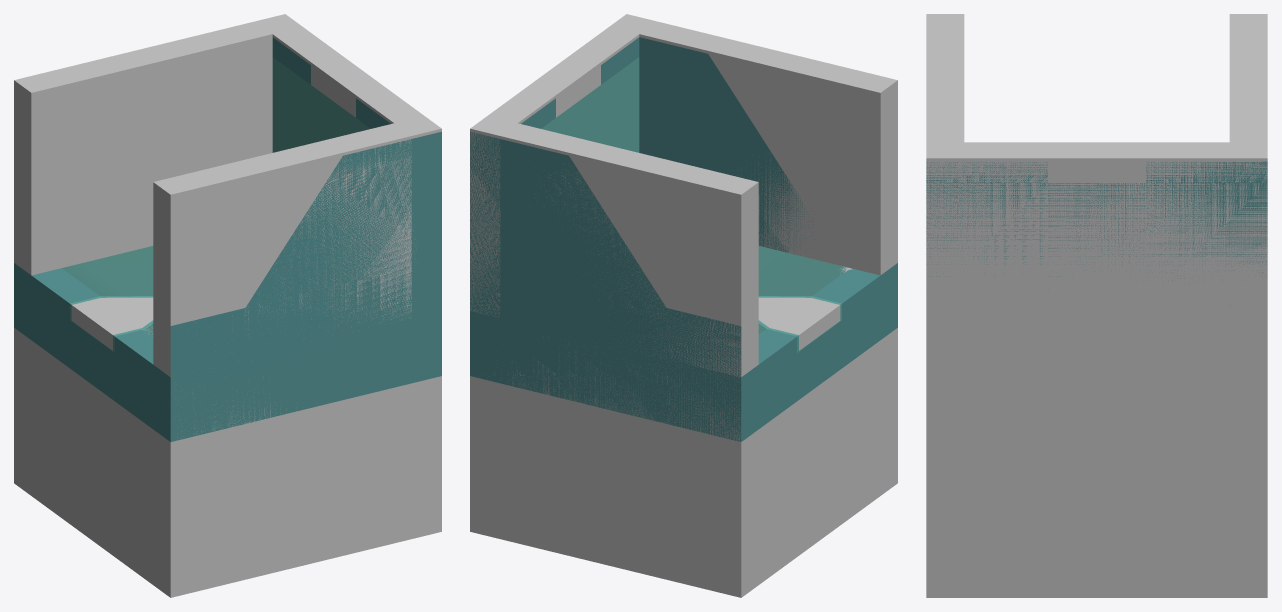
Rendered from SM_Chairs_04.fbx.
3 views of the same model, side by side, from view 1: azimuth 30°, elevation 25°; view 2: azimuth 150°, elevation 25°; view 3: azimuth 270°, elevation 25° (orthographic). The views are drawn at different scales.
Parts seen in each view (by area): view 1: SM_Chairs_04_ConvexHulls, SM_Chairs_04; view 2: SM_Chairs_04_ConvexHulls, SM_Chairs_04; view 3: SM_Chairs_04_ConvexHulls, SM_Chairs_04.
Part boxes in pixels (left/top/right/bottom): SM_Chairs_04_ConvexHulls: left=14, top=14, right=441, bottom=597; SM_Chairs_04: left=14, top=37, right=441, bottom=441; SM_Chairs_04_ConvexHulls: left=470, top=14, right=897, bottom=597; SM_Chairs_04: left=470, top=37, right=897, bottom=441; SM_Chairs_04_ConvexHulls: left=926, top=14, right=1267, bottom=597; SM_Chairs_04: left=926, top=161, right=1267, bottom=281.
Bounding box in the file's own units: 87.73 × 87.73 × 125.
2 materials, 1 textured.
